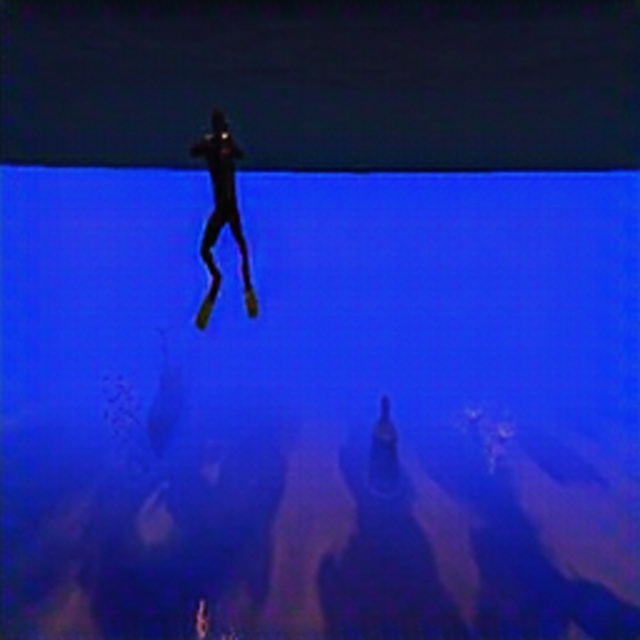diver: (188, 104, 258, 331)
